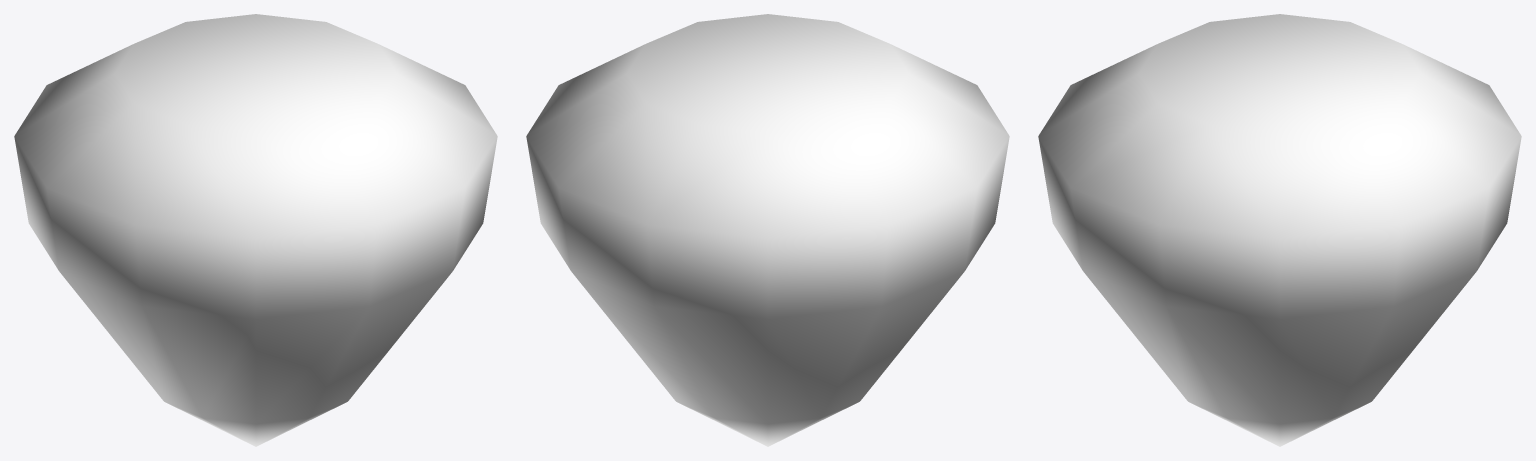
Rendered from SM_RefinedMetal_6.fbx.
The picture shows the model from 3 angles, left to right: view 1: azimuth 30°, elevation 25°; view 2: azimuth 150°, elevation 25°; view 3: azimuth 270°, elevation 25°; orthographic projection.
Parts seen in each view (by area): view 1: RefinedMetal_6; view 2: RefinedMetal_6; view 3: RefinedMetal_6.
Part boxes in pixels (bbox=[...]): RefinedMetal_6: bbox=[14, 14, 497, 446]; RefinedMetal_6: bbox=[526, 14, 1009, 446]; RefinedMetal_6: bbox=[1038, 14, 1521, 446].
Size of the model in its own units: 0.2645 by 0.2254 by 0.2645.
